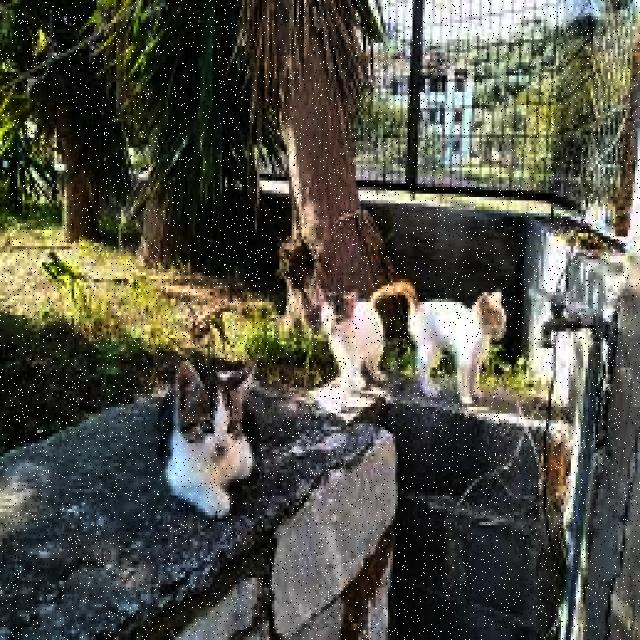cat: (373, 281, 505, 404), (159, 362, 259, 517), (320, 292, 383, 389)
